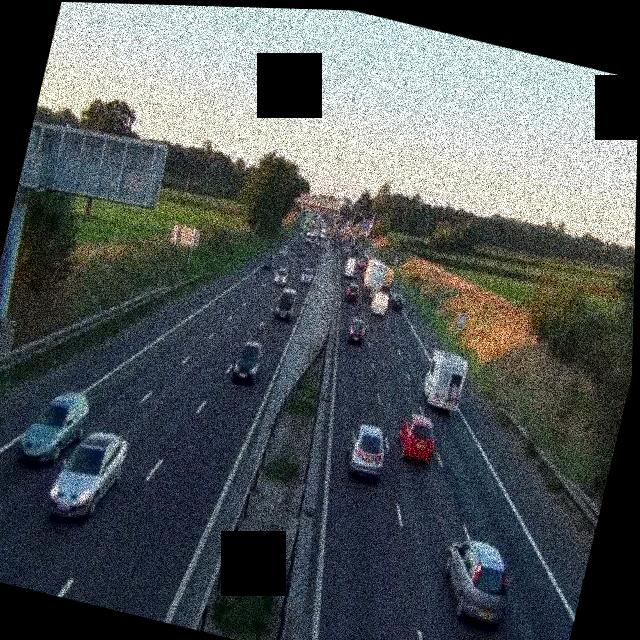car: (45, 421, 132, 529), (433, 534, 518, 628), (16, 382, 93, 474), (344, 420, 391, 481), (393, 410, 440, 464), (230, 338, 265, 386), (273, 287, 298, 321), (345, 317, 368, 347), (271, 265, 289, 287), (297, 264, 314, 285), (346, 281, 362, 302), (263, 252, 277, 271), (280, 242, 290, 255)
truck: (418, 347, 470, 413), (361, 256, 396, 302), (368, 286, 391, 317), (302, 215, 318, 241), (342, 255, 359, 277)
